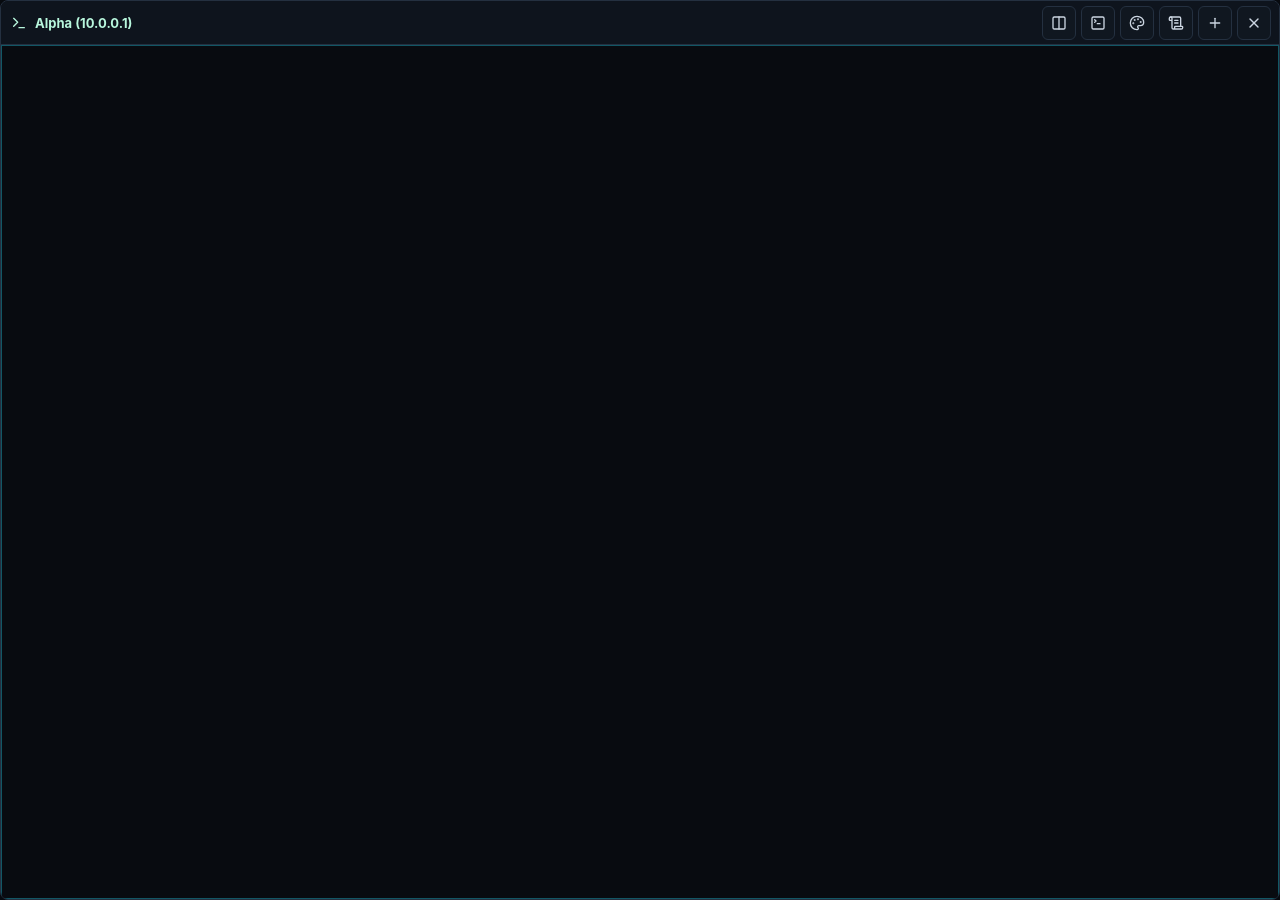
Scenario: TerminalPane multi-session split › places a new split below the focused pane with the selected size
Click the button named "Split terminal" at {"x": 1059, "y": 22}, box [1042, 6, 1076, 40]
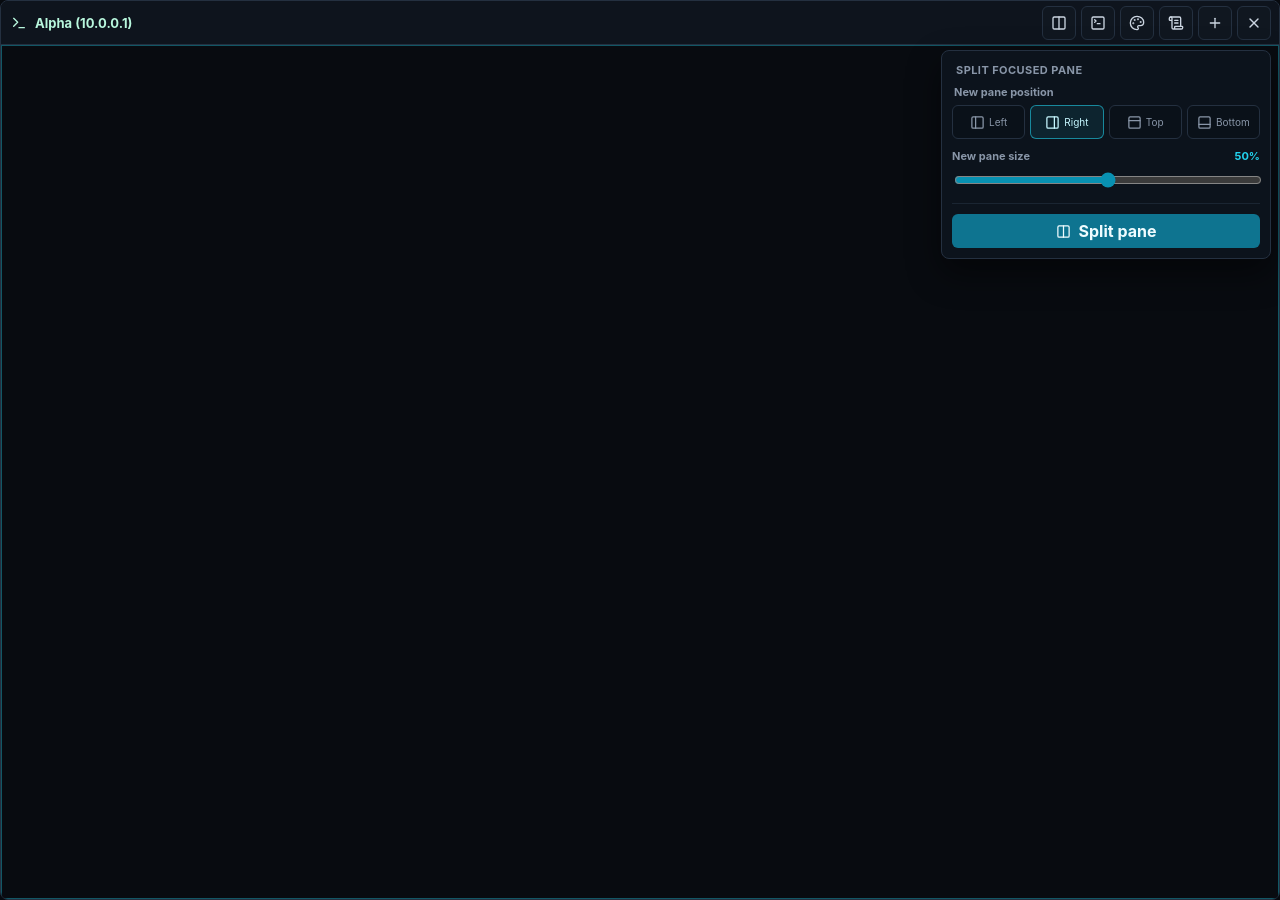
Click the button with aria-label "Place new pane bottom" at {"x": 1223, "y": 122}, box [1187, 105, 1260, 139]
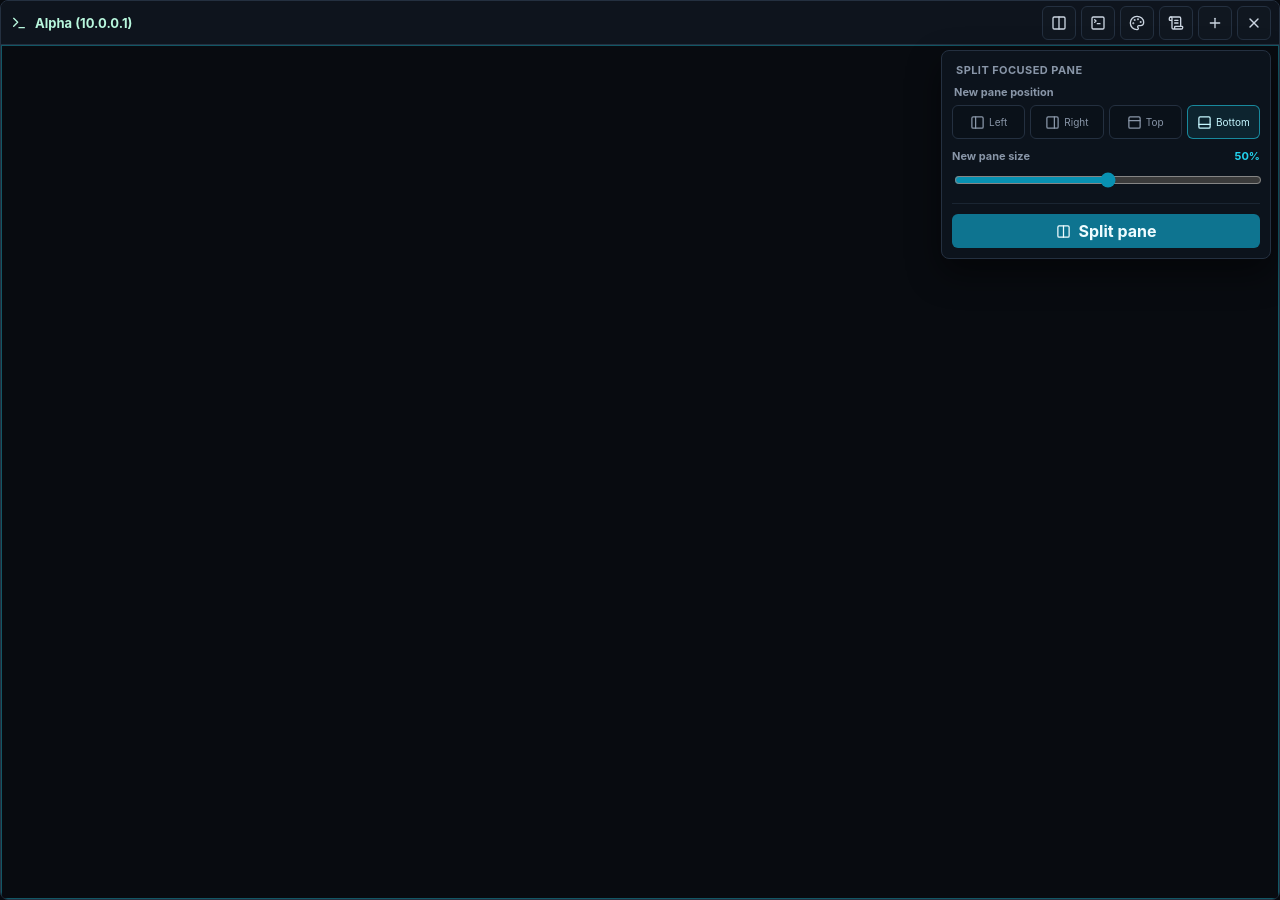
Set the slider named "New pane size" to "35" at {"x": 1035, "y": 180}, box [954, 169, 1262, 191]
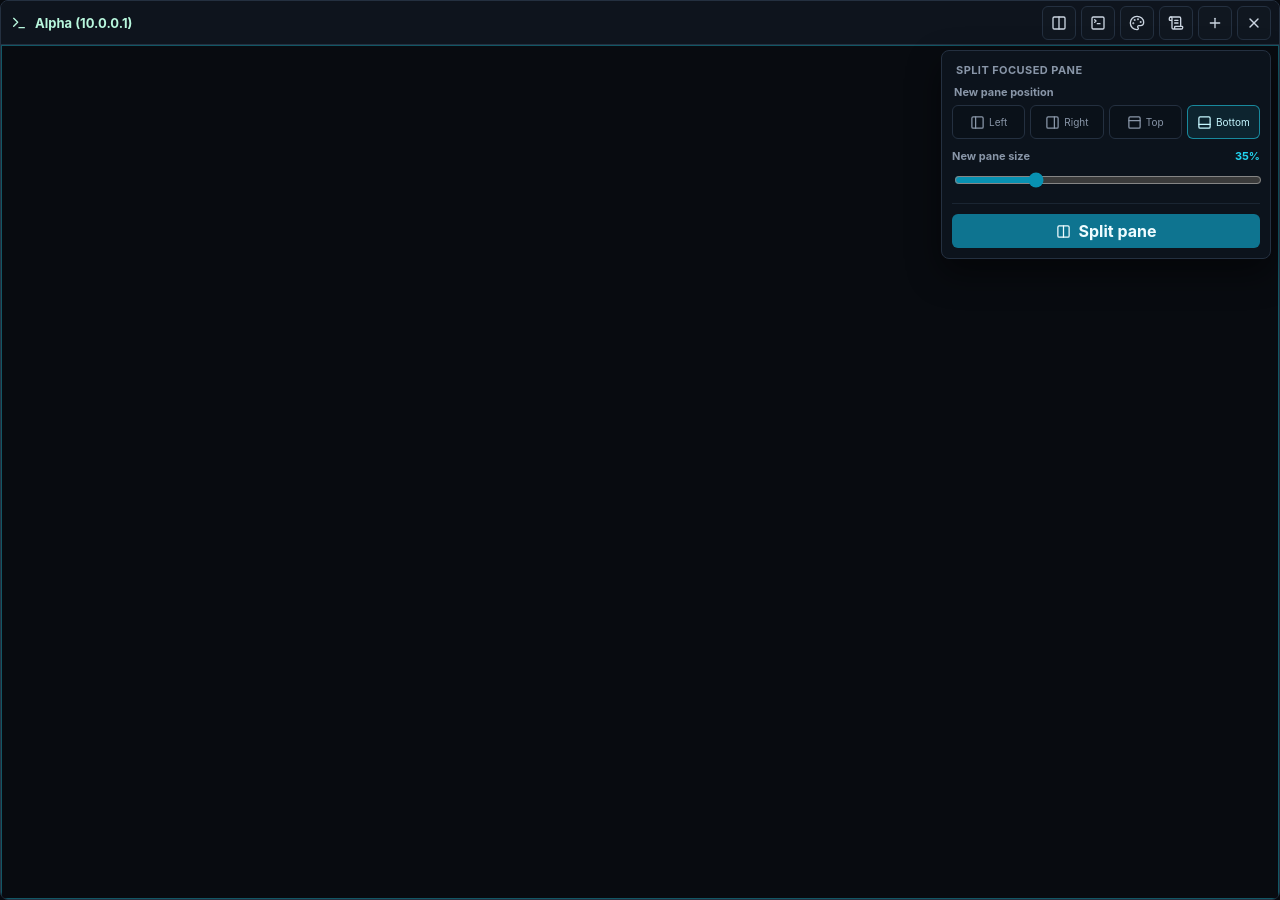
Click the button "Split pane" at {"x": 1106, "y": 231}, box [952, 214, 1260, 248]
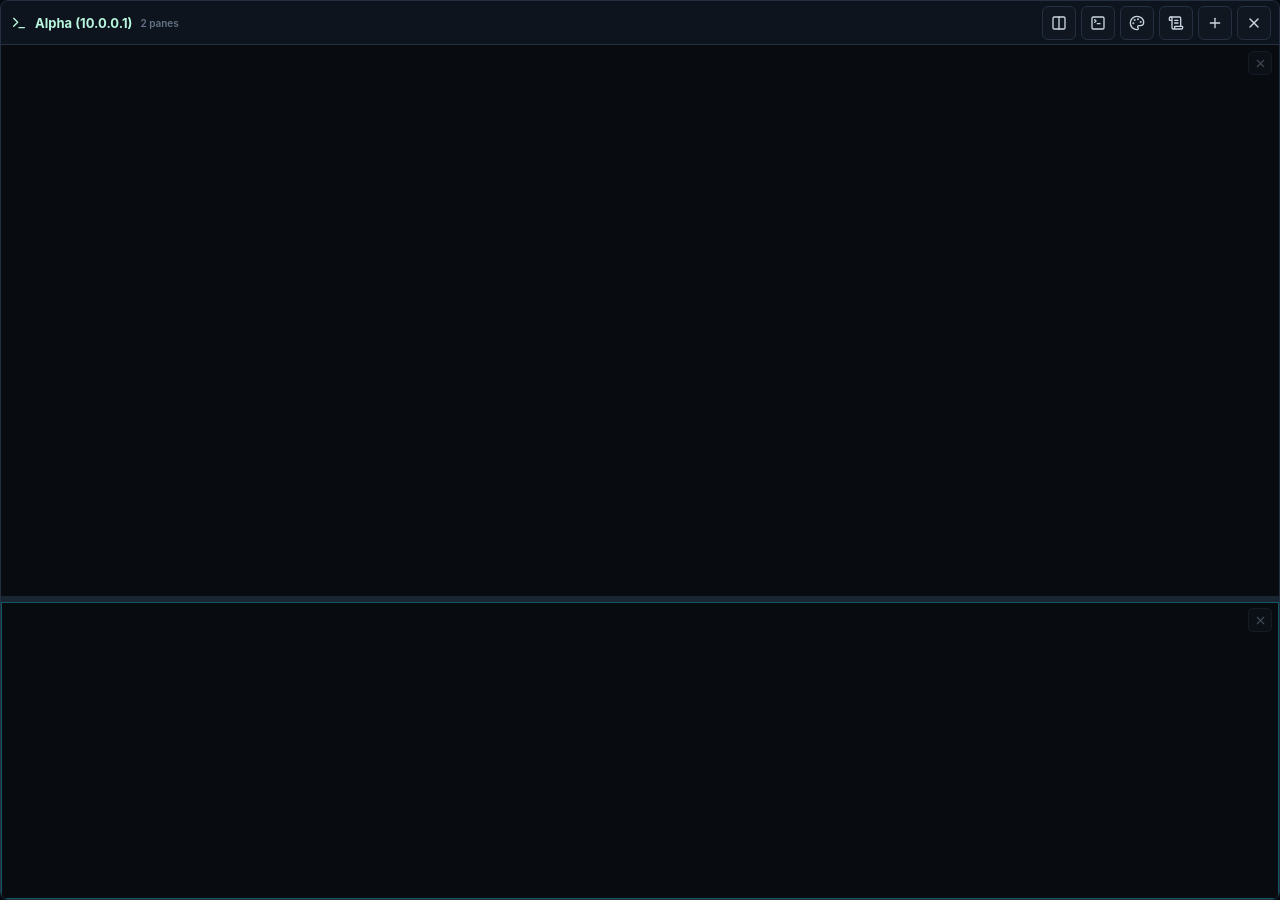
Now the number of elements named "Alpha terminal pane" is 2
